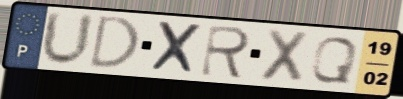D: (86, 14, 143, 70)
Q: (307, 35, 361, 86)
R: (197, 23, 254, 81)
U: (38, 8, 97, 69)
X: (256, 26, 313, 86), (148, 19, 205, 77)
